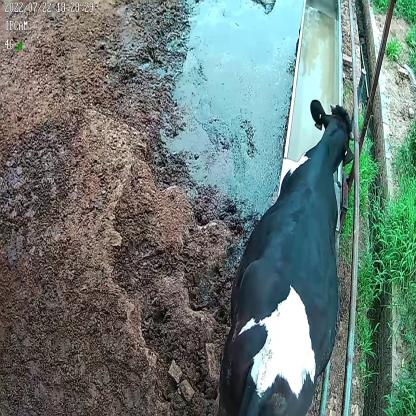cow: (216, 94, 356, 416)
